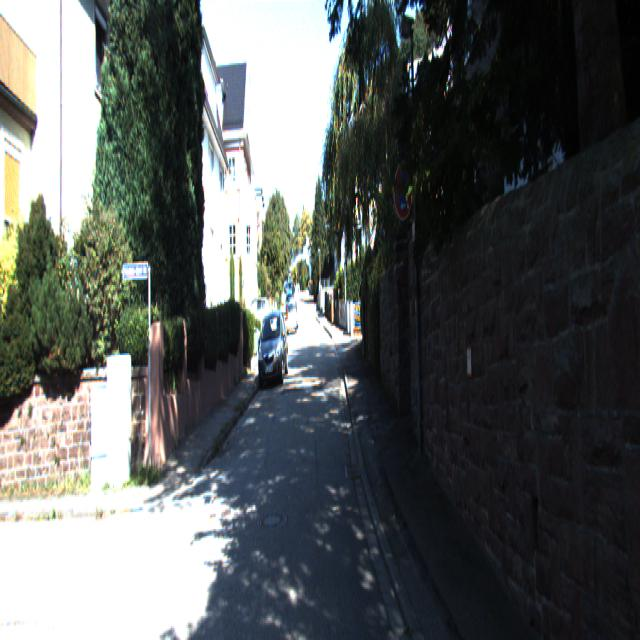Car: (257, 316, 289, 391)
